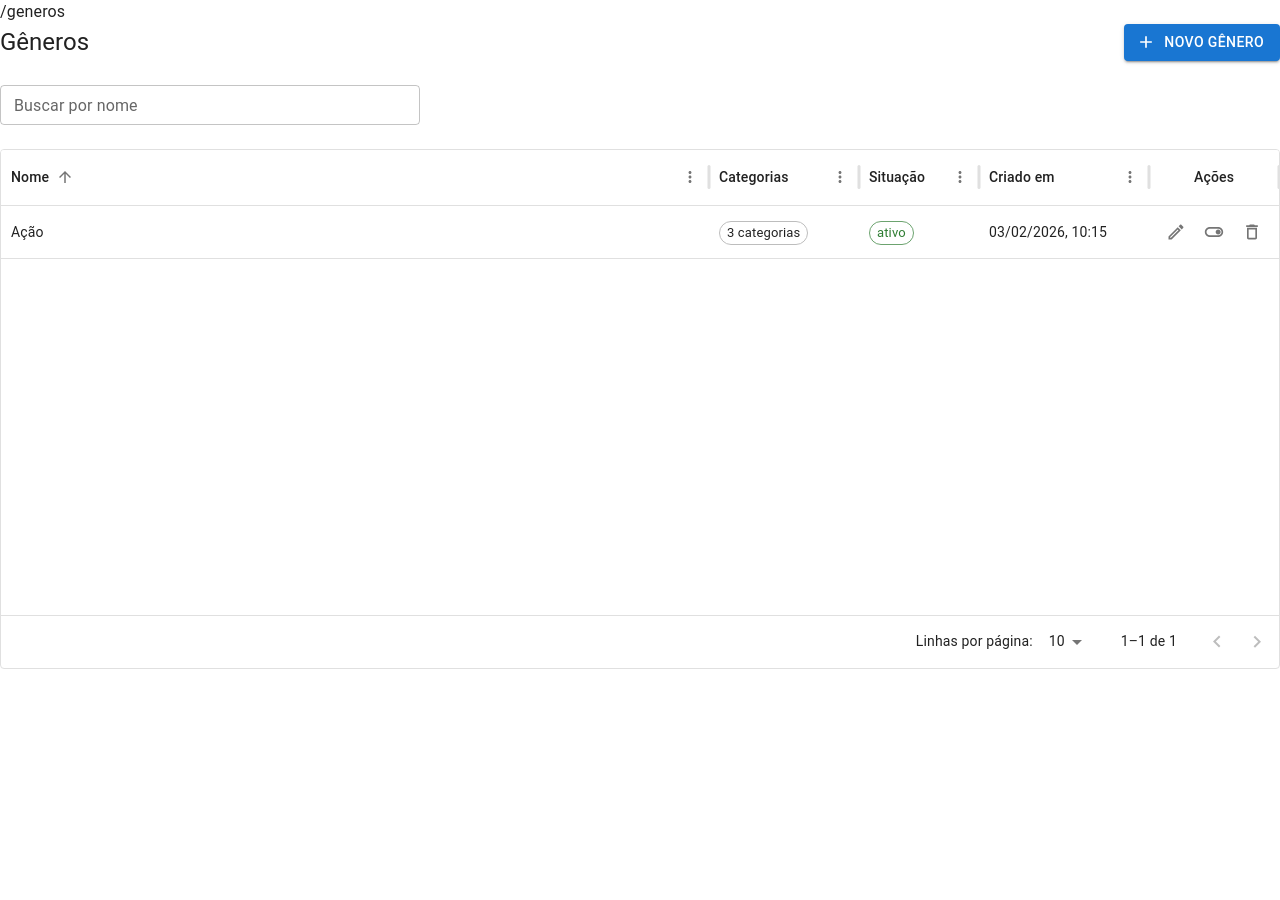
GenreList › givenUmGenero_whenClicaEmRemover_thenPerguntaAntesDeChamar
Expected: the text "Ação" is shown, top-left (11, 224), bottom-right (44, 240)
Click the menu item named "Remover" at (1252, 232), box top-left (1237, 217), bottom-right (1267, 247)
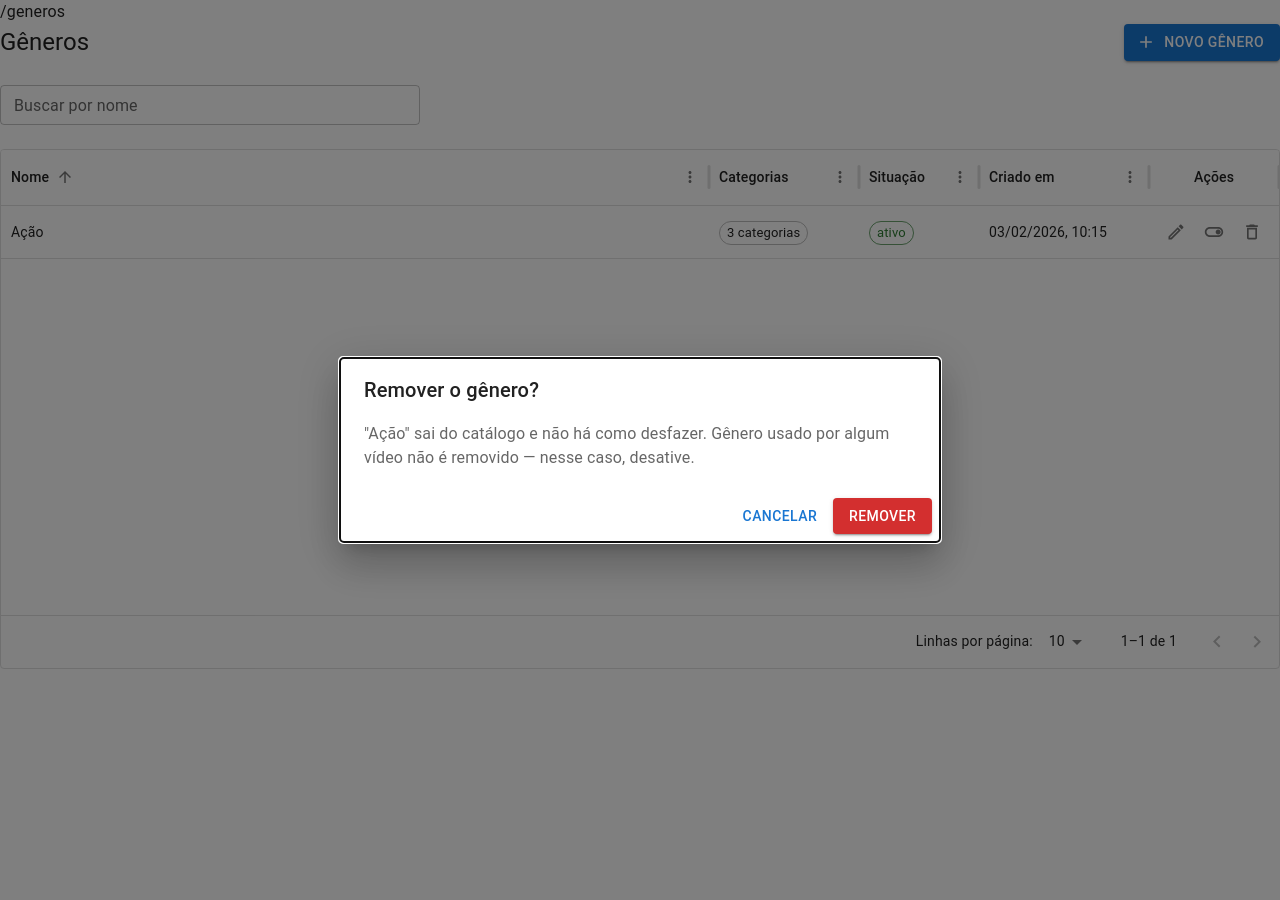
Expected: the heading "Remover o gênero?" is shown, top-left (364, 378), bottom-right (539, 402)
